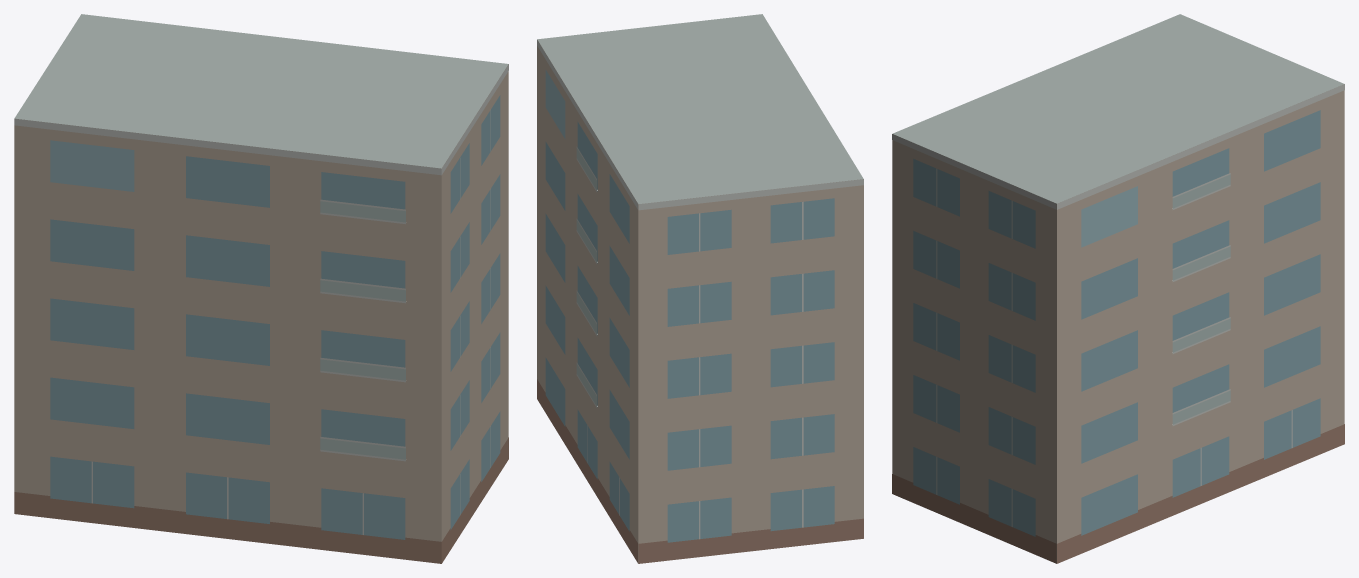
Rendered from survey-upis-32888390.glb.
The picture shows the model from 3 angles, left to right: view 1: azimuth 30°, elevation 25°; view 2: azimuth 150°, elevation 25°; view 3: azimuth 270°, elevation 25°; orthographic projection. The views are drawn at different scales.
Parts seen in each view (by area): view 1: survey-upis-32888390.tmp; view 2: survey-upis-32888390.tmp; view 3: survey-upis-32888390.tmp.
Boxes of the visible parts, x1=… form: survey-upis-32888390.tmp: x1=14, y1=14, x2=508, y2=563; survey-upis-32888390.tmp: x1=537, y1=14, x2=863, y2=563; survey-upis-32888390.tmp: x1=892, y1=14, x2=1344, y2=563.
Bounding box in the file's own units: 16.05 × 14.2 × 16.18.
